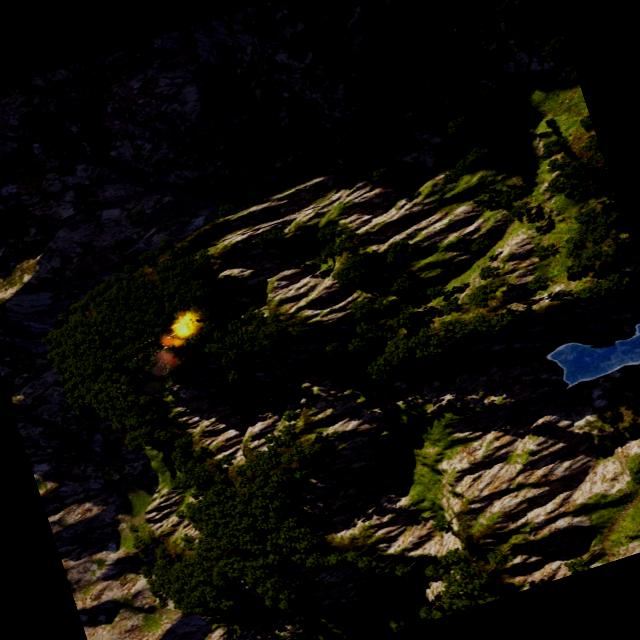fire: (168, 309, 202, 342)
smoke: (120, 345, 190, 404)
